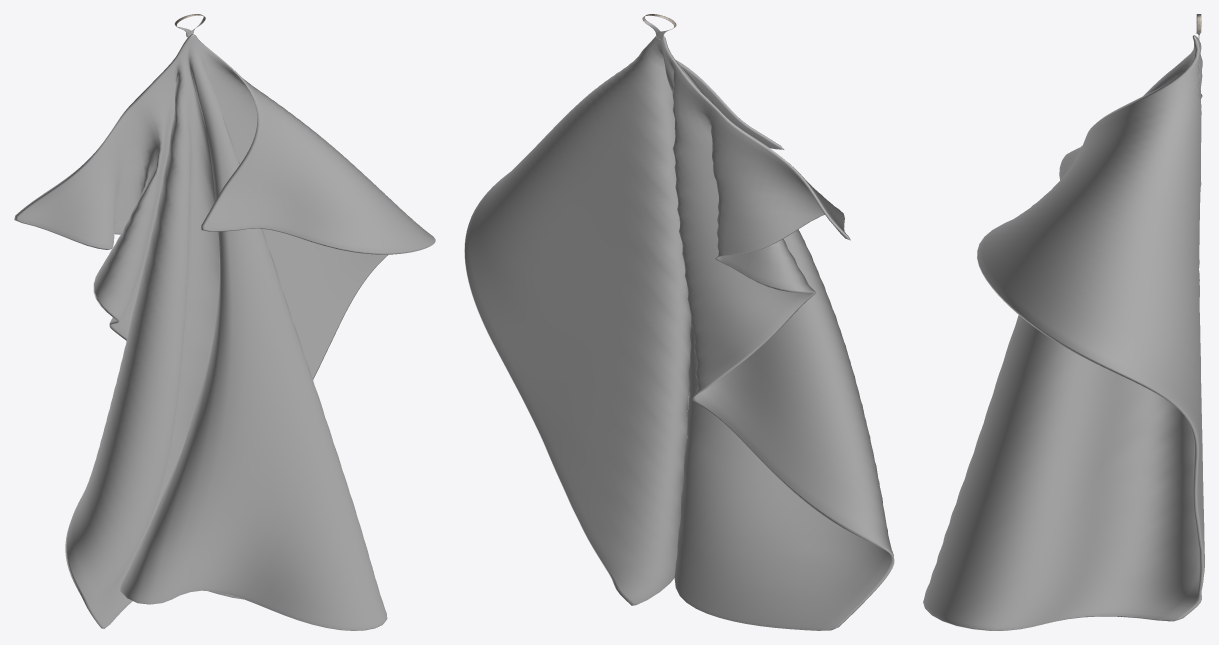
Rendered from lap mfb.fbx.
The picture shows the model from 3 angles, left to right: view 1: azimuth 30°, elevation 25°; view 2: azimuth 150°, elevation 25°; view 3: azimuth 270°, elevation 25°; orthographic projection. The views are drawn at different scales.
Parts seen in each view (by area): view 1: lap mfb; view 2: lap mfb; view 3: lap mfb.
Boxes of the visible parts, bbox=[...] form: lap mfb: bbox=[14, 14, 435, 630]; lap mfb: bbox=[464, 14, 894, 630]; lap mfb: bbox=[923, 14, 1204, 630].
Size of the model in its own units: 462 by 657 by 285.
Materials: 2 (1 with a texture image).
